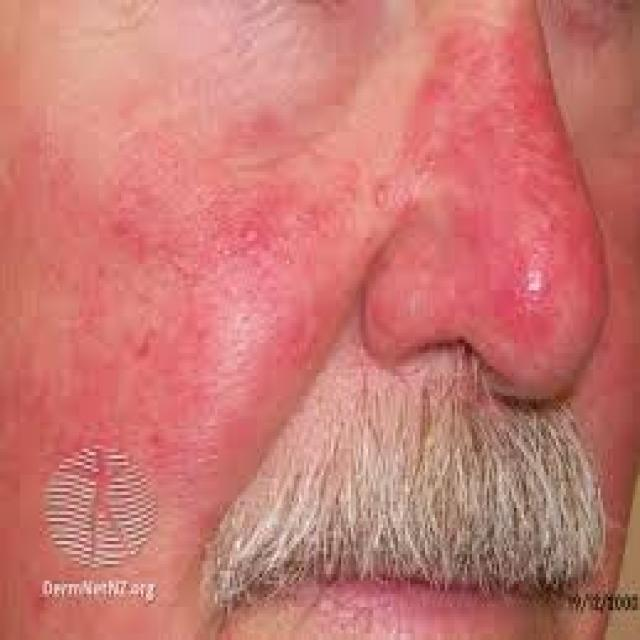Rosacea: (6, 117, 347, 479), (372, 25, 579, 329)
